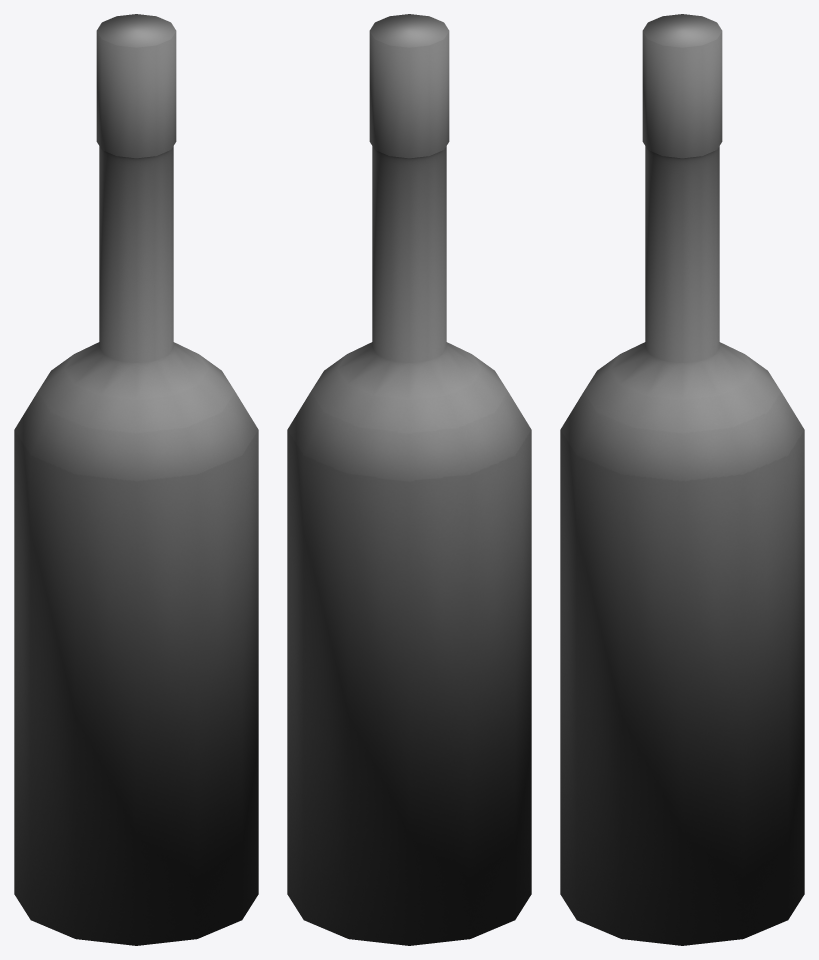
File: bottle.fbx
3 renders of one model, left to right at view 1: azimuth 30°, elevation 25°; view 2: azimuth 150°, elevation 25°; view 3: azimuth 270°, elevation 25°, orthographic.
Parts seen in each view (by area): view 1: Cylinder; view 2: Cylinder; view 3: Cylinder.
Boxes of the visible parts, box(x1,y1,x2,y2) form: Cylinder: box(14, 14, 258, 945); Cylinder: box(287, 14, 531, 945); Cylinder: box(560, 14, 804, 945).
Bounding box in the file's own units: 20 × 78.04 × 20.
Materials: 1 (1 with a texture image).
